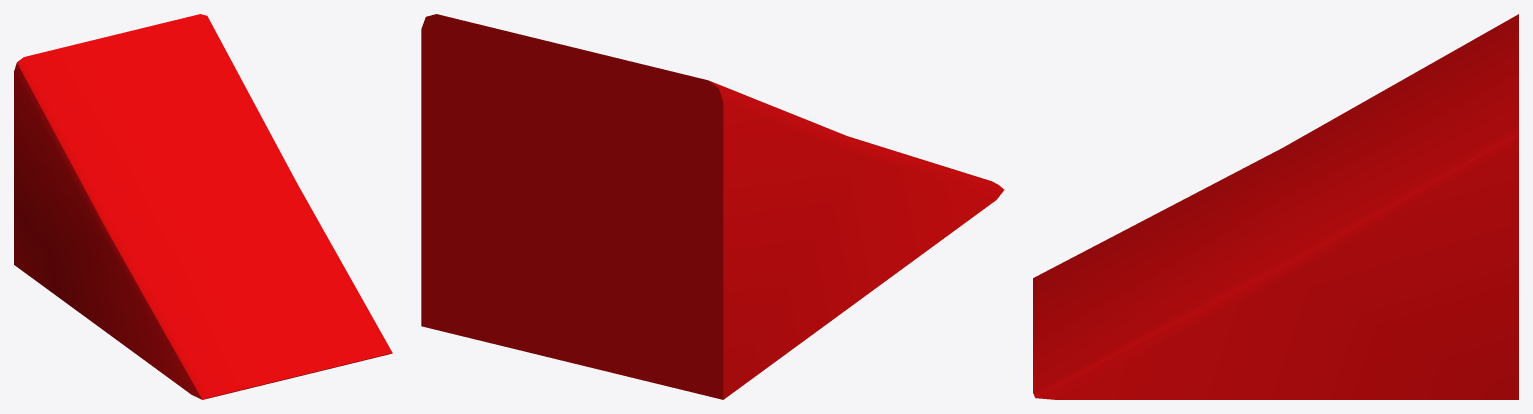
File: (p) Red Triangular block.fbx
3 views of the same model, side by side, from view 1: azimuth 30°, elevation 25°; view 2: azimuth 150°, elevation 25°; view 3: azimuth 270°, elevation 25° (orthographic). The views are drawn at different scales.
Visible parts, largest first — view 1: Triangalar Block.005; view 2: Triangalar Block.005; view 3: Triangalar Block.005.
Boxes of the visible parts, x1,y1,x2,y2 form: Triangalar Block.005: (14,14,392,399); Triangalar Block.005: (421,14,1004,399); Triangalar Block.005: (1033,14,1518,399).
Size of the model in its own units: 296 by 296 by 488.
